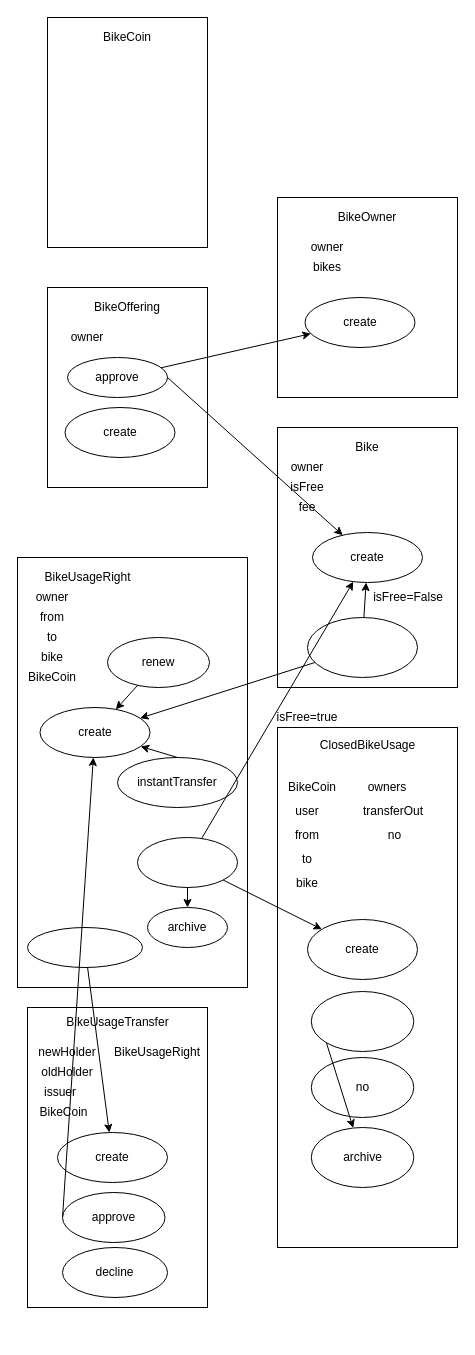
This 475x1355 diagram has some shape labels left out. The shapes that lost their labels are listed below. From the top down, each one's centre as x and y in pixels, then its label:
At pixel 362 647: "RequestUsage".
At pixel 187 862: "unlock".
At pixel 84 947: "transfer".
At pixel 362 1021: "transfer out".
